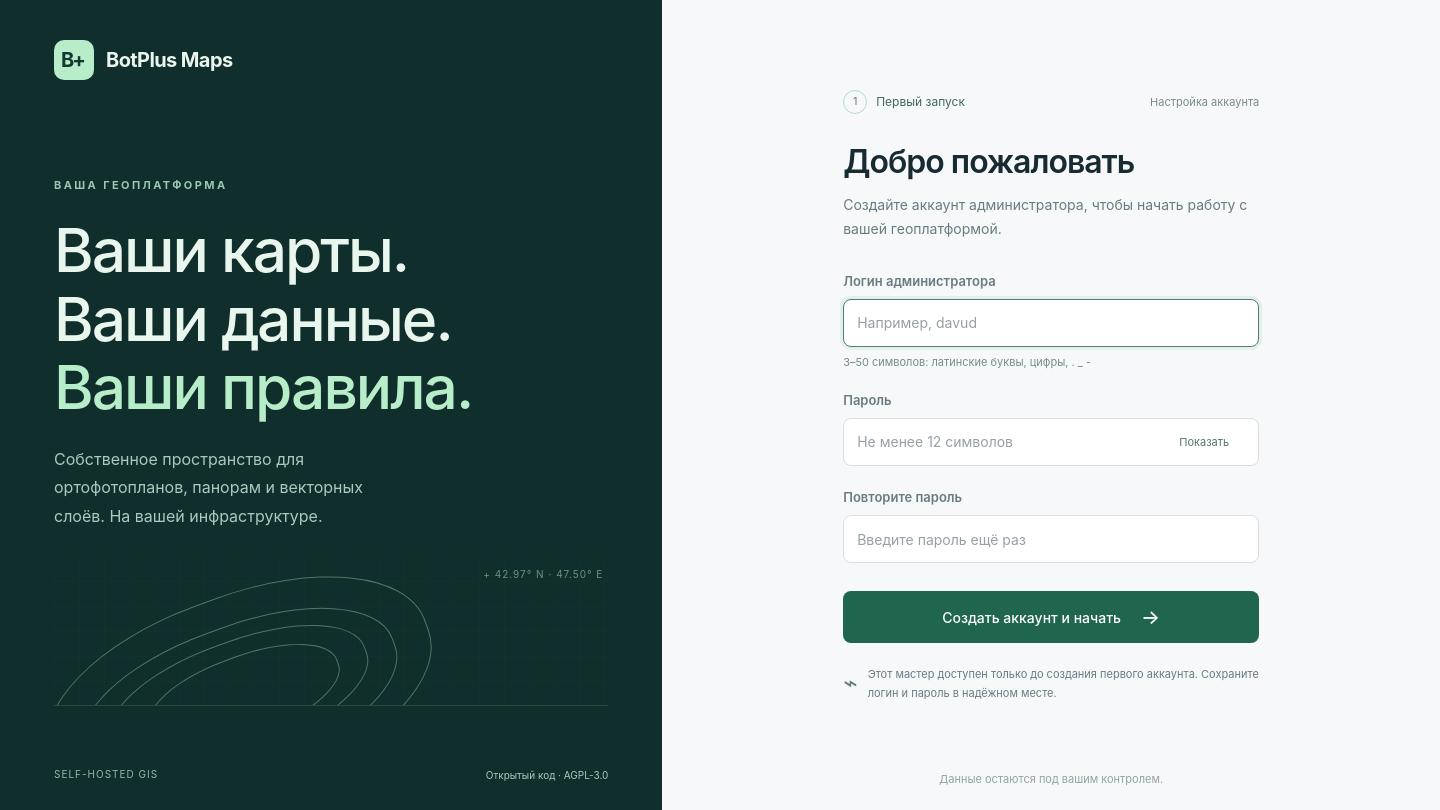
Test case: a completed concurrent setup offers login and does not authenticate
Step 1. Type "davud" into the field labelled "Логин администратора" → (1051, 323), box [843,299,1259,347]
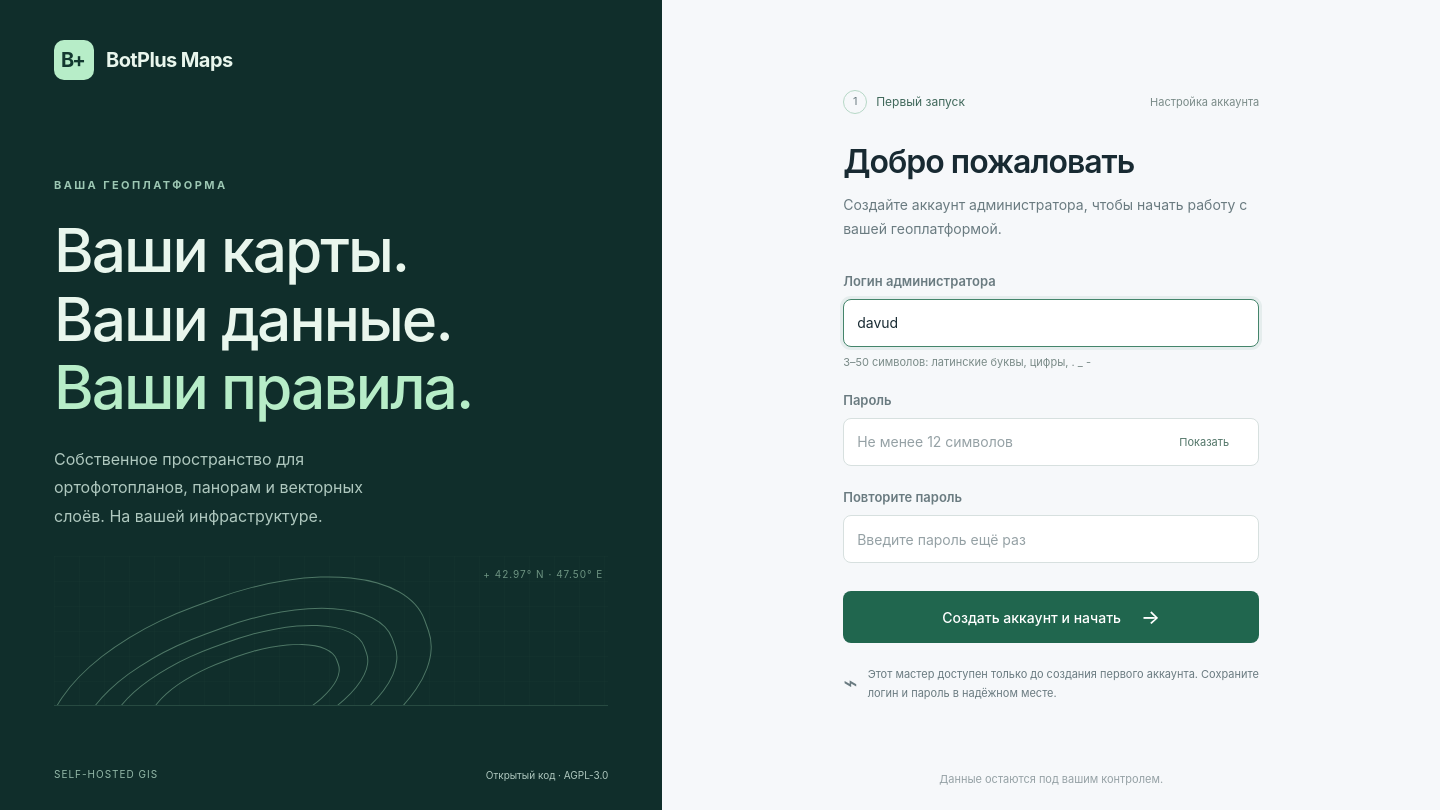
Step 2. Type "a-very-long-password" into the password field labelled "Пароль" → (1051, 442), box [843,418,1259,466]
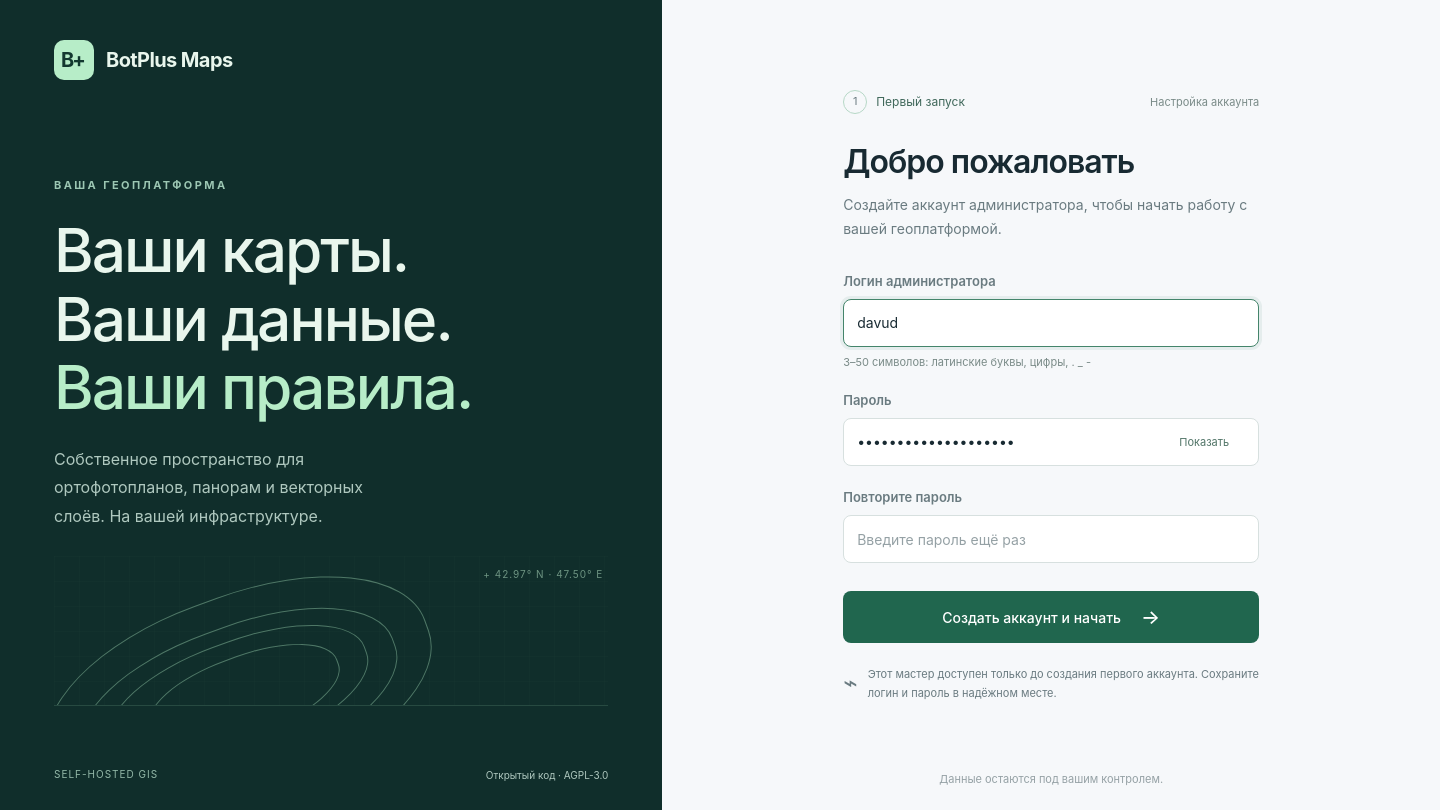
Step 3. Type "a-very-long-password" into the password field labelled "Повторите пароль" → (1051, 539), box [843,515,1259,563]
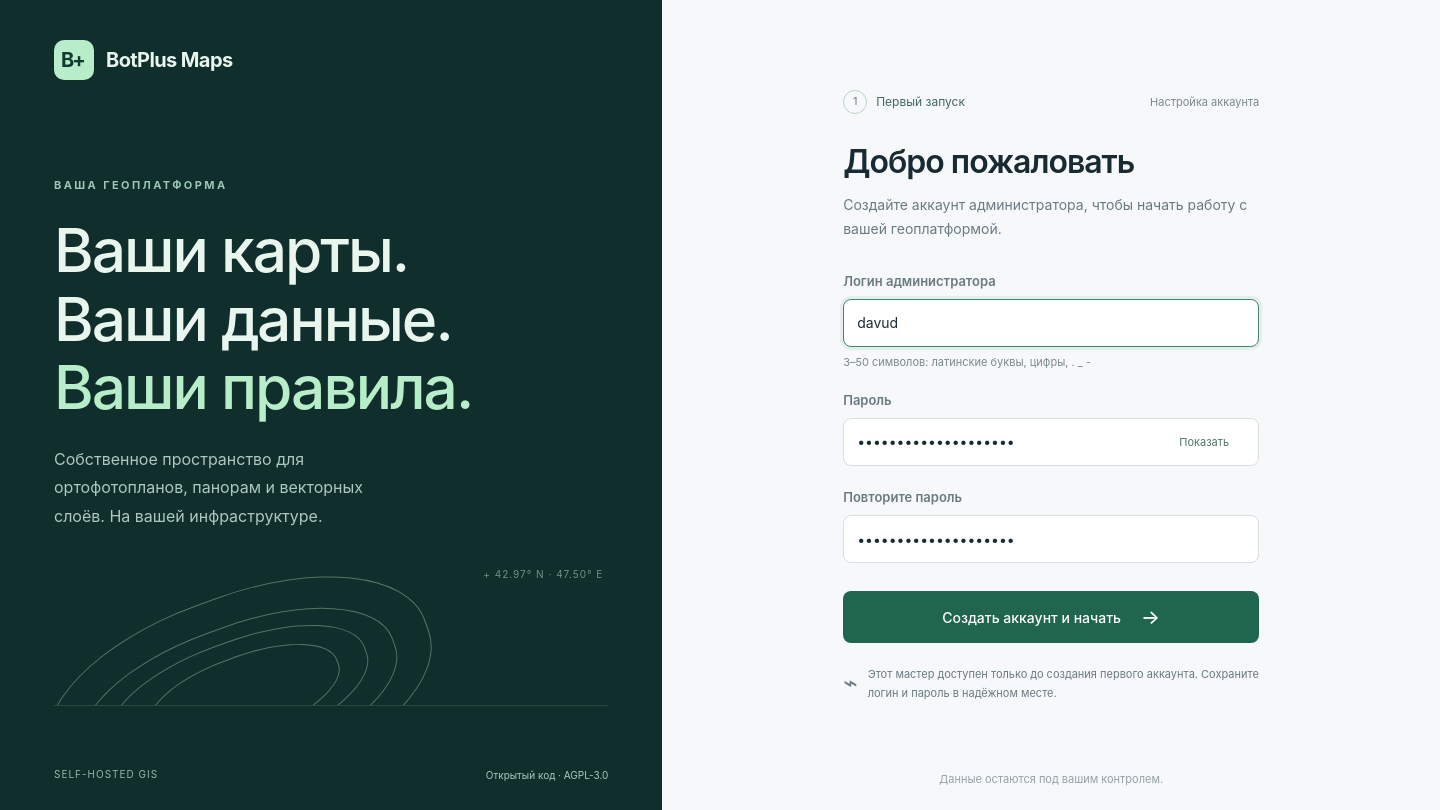
Step 4. Click the button "Создать аккаунт и начать →" → (1051, 617), box [843,591,1259,643]
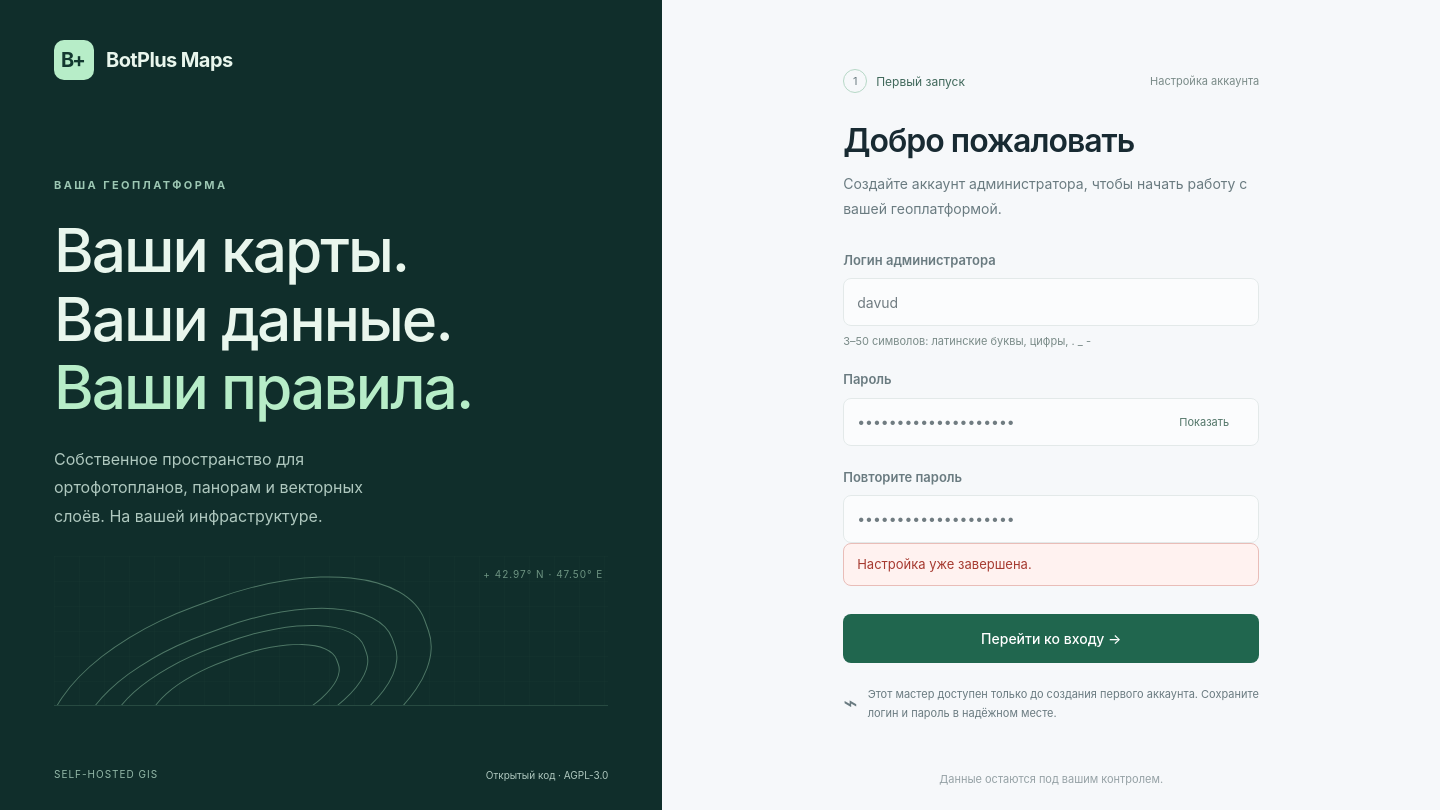
Check: the message reads "Настройка уже завершена.", box [857,556,1032,572]
